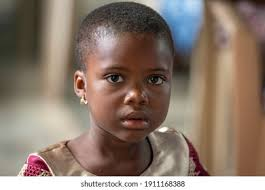person: (73, 1, 176, 145)
